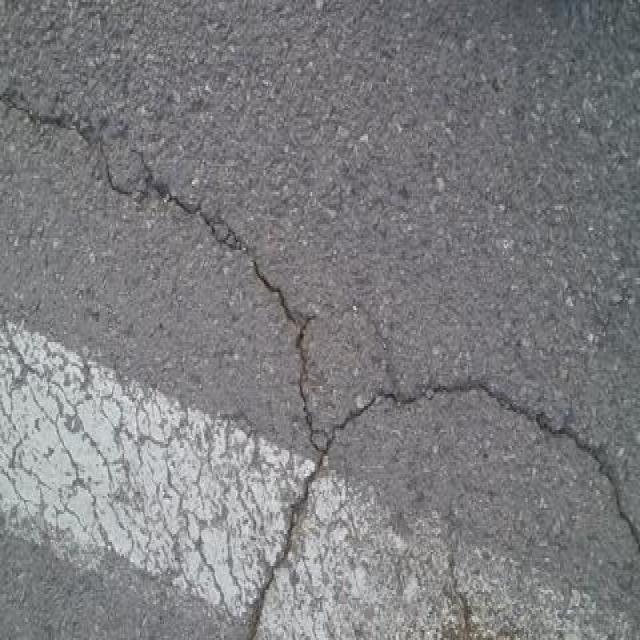GRIETA: (125, 145, 325, 452), (328, 379, 639, 553), (0, 88, 161, 205), (248, 454, 327, 639), (351, 300, 401, 391), (448, 514, 481, 639)
PIEL DE COCODRILO: (0, 317, 311, 632)
